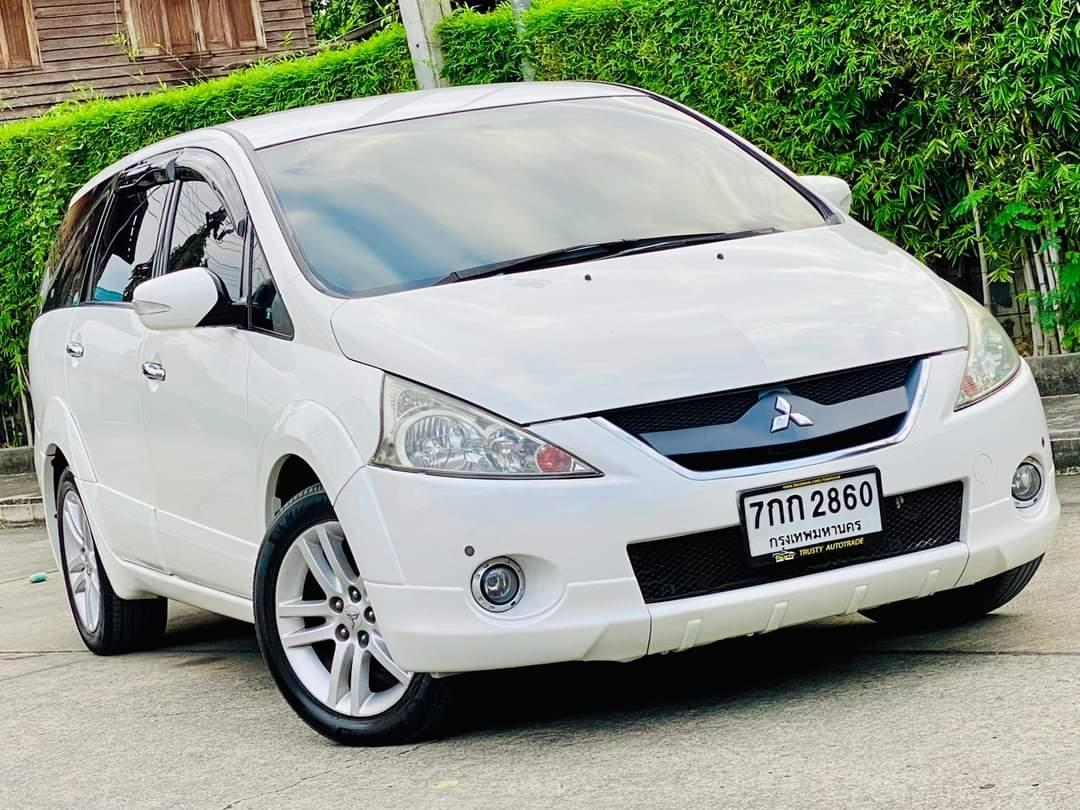license-plate: (739, 463, 890, 563)
